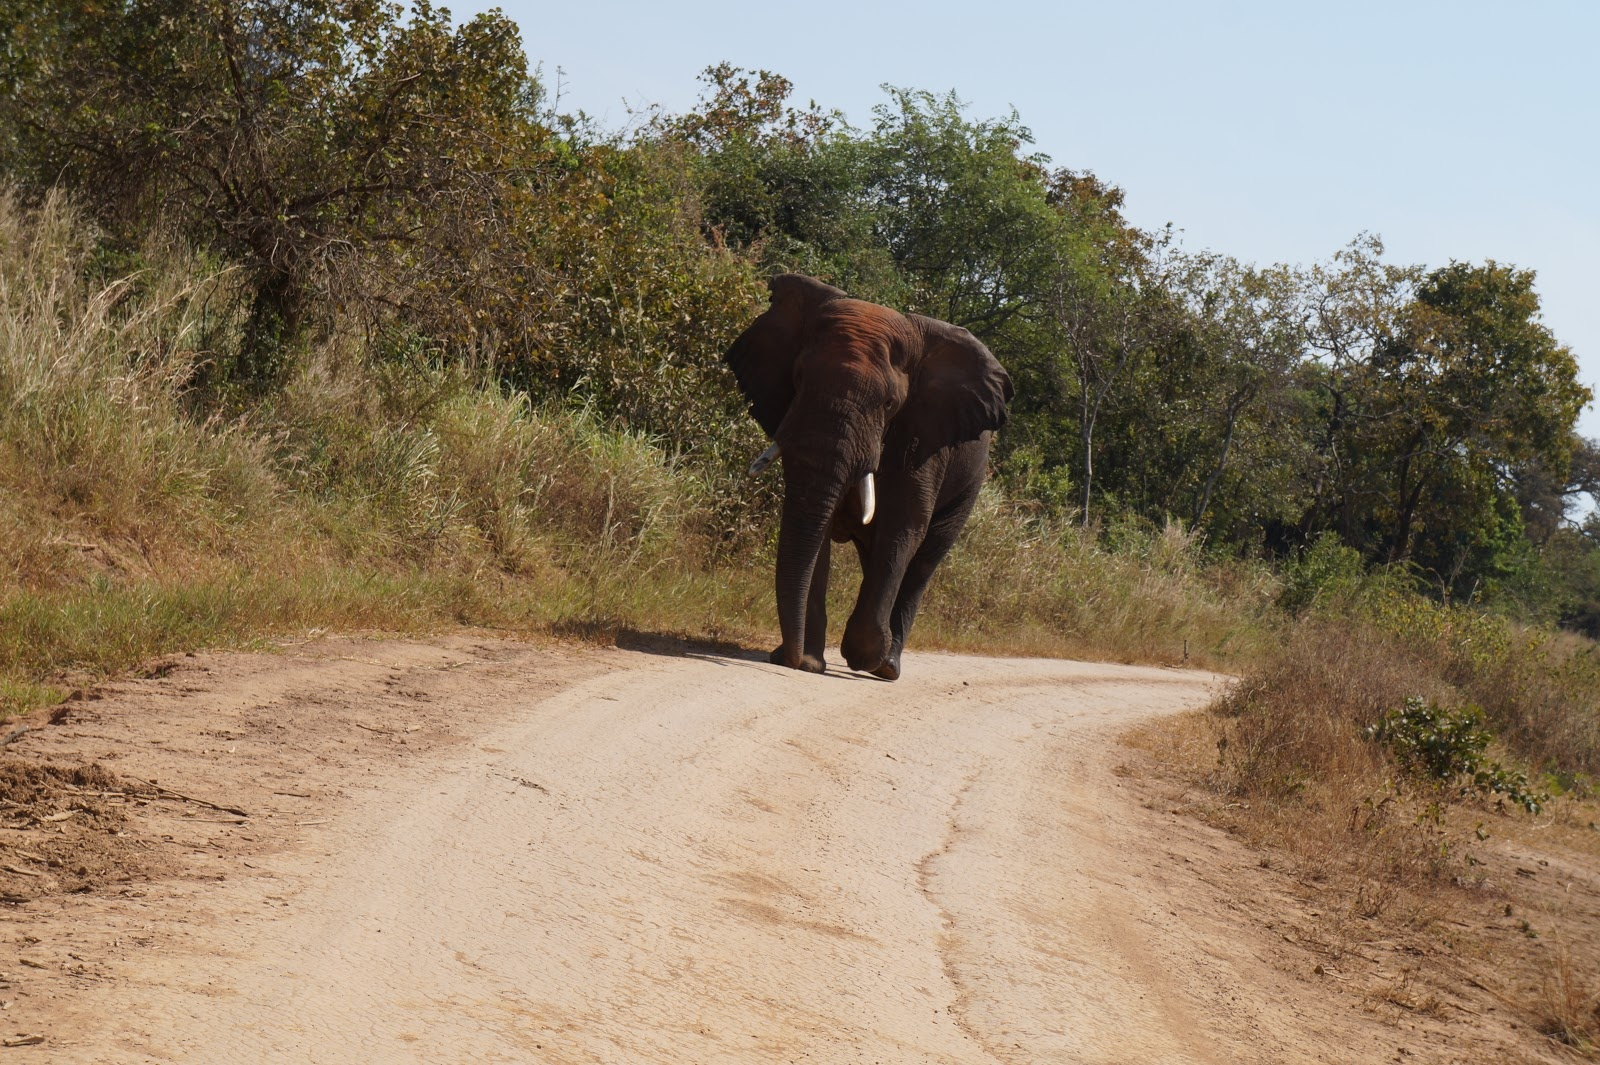elephant: (717, 266, 1019, 686)
